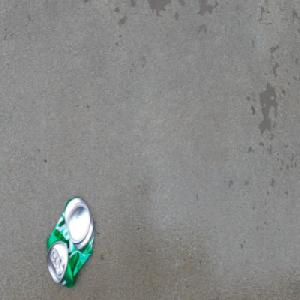SodaCan: (44, 193, 95, 290)
